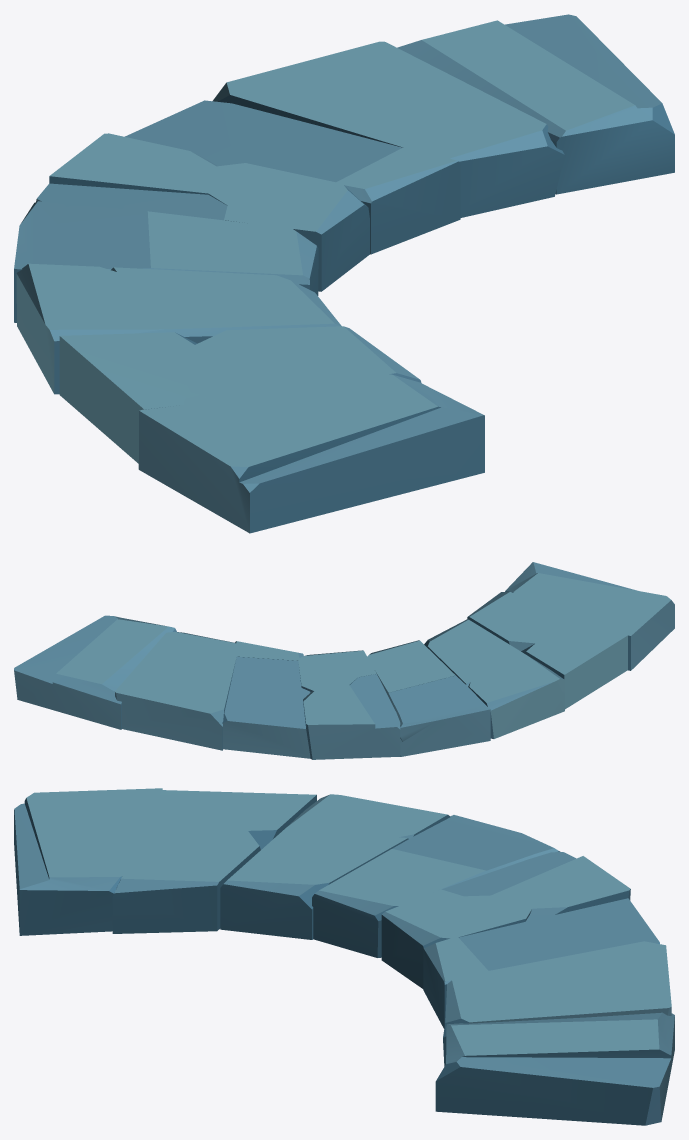
File: Corner.FBX
3 views of the same model, one above another, from view 1: azimuth 30°, elevation 25°; view 2: azimuth 150°, elevation 25°; view 3: azimuth 270°, elevation 25° (orthographic). The views are drawn at different scales.
Visible parts, largest first — view 1: flor003; view 2: flor003; view 3: flor003.
Part boxes in pixels (x1=…): flor003: x1=14, y1=14, x2=674, y2=533; flor003: x1=14, y1=562, x2=674, y2=759; flor003: x1=14, y1=788, x2=674, y2=1125.
Size of the model in its own units: 1584 by 121 by 1523.
